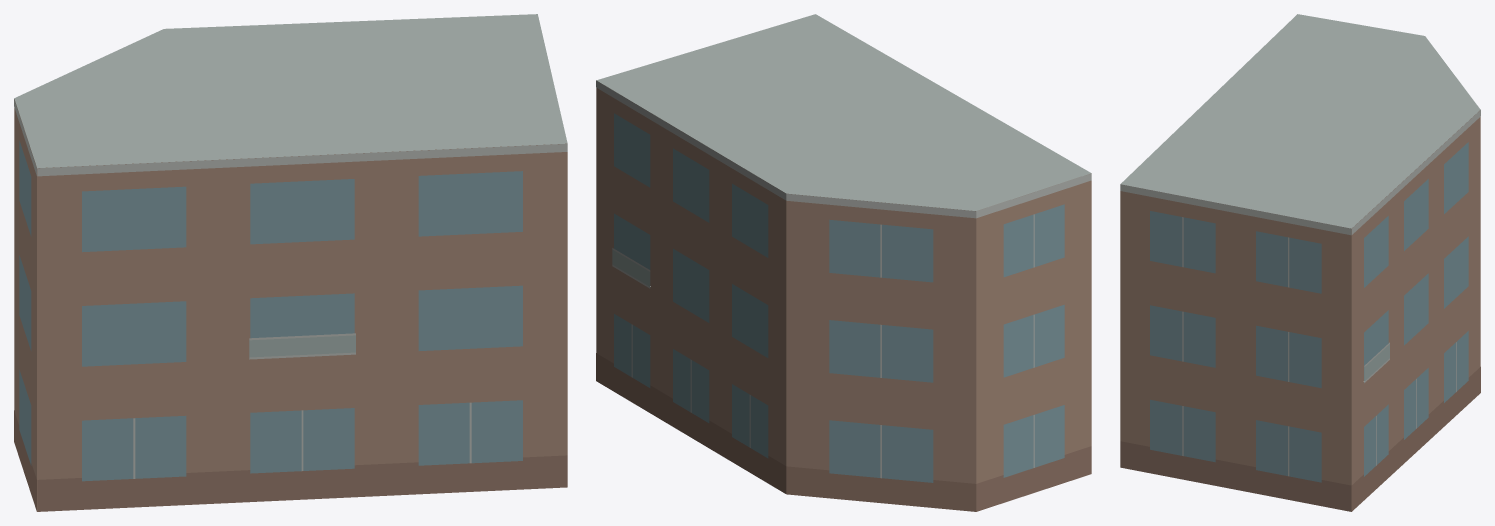
File: survey-upis-32713580.glb
The picture shows the model from 3 angles, left to right: view 1: azimuth 30°, elevation 25°; view 2: azimuth 150°, elevation 25°; view 3: azimuth 270°, elevation 25°; orthographic projection. The views are drawn at different scales.
Parts seen in each view (by area): view 1: survey-upis-32713580.tmp; view 2: survey-upis-32713580.tmp; view 3: survey-upis-32713580.tmp.
Boxes of the visible parts, x1,y1,x2,y2 form: survey-upis-32713580.tmp: (14, 14, 567, 511); survey-upis-32713580.tmp: (596, 14, 1091, 511); survey-upis-32713580.tmp: (1120, 14, 1480, 511).
Size of the model in its own units: 16.58 by 10.2 by 11.77.
